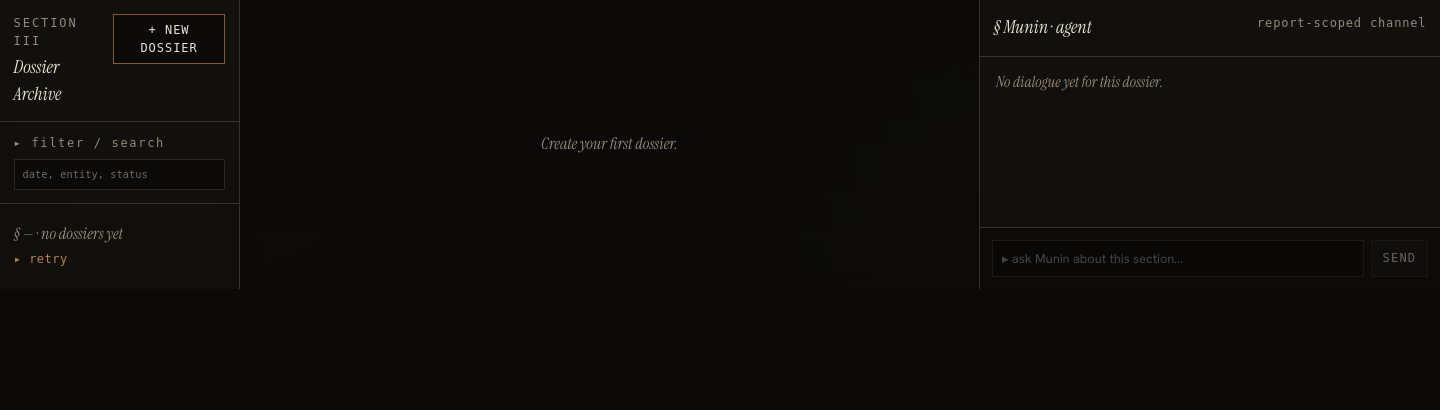
Test: report write errors › shows the backend configuration reason after New Dossier fails, without creating a phantom dossier
Check: the text "§ — · no dossiers yet" is shown, box [14,223,123,244]
Click the button "+ New Dossier" at (169, 39), box [113,14,225,64]
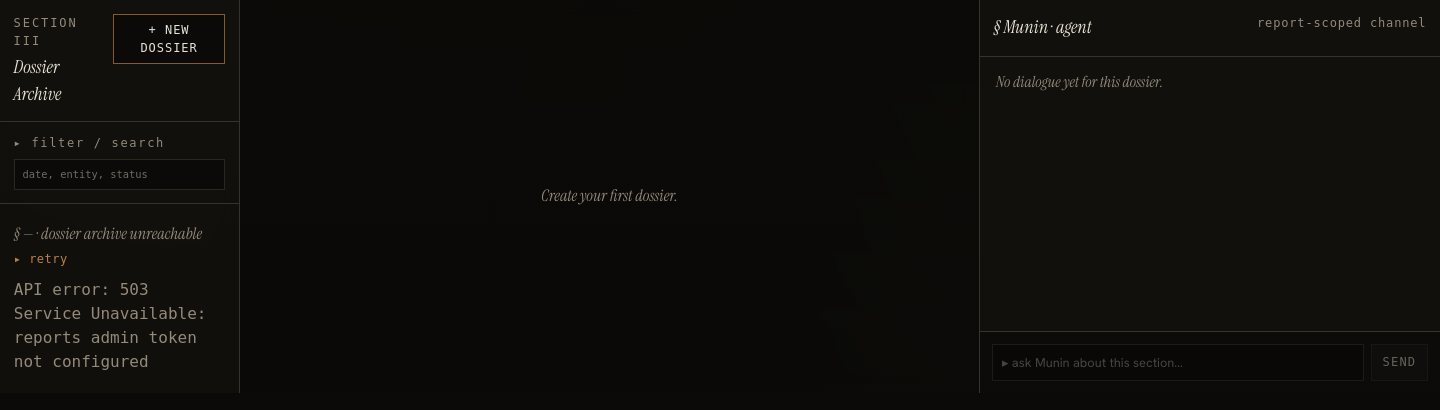
Check: the text "Create your first dossier." is shown, box [541,185,678,206]
Check: the text "reports admin token not configured" is shown, box [14,280,206,371]
